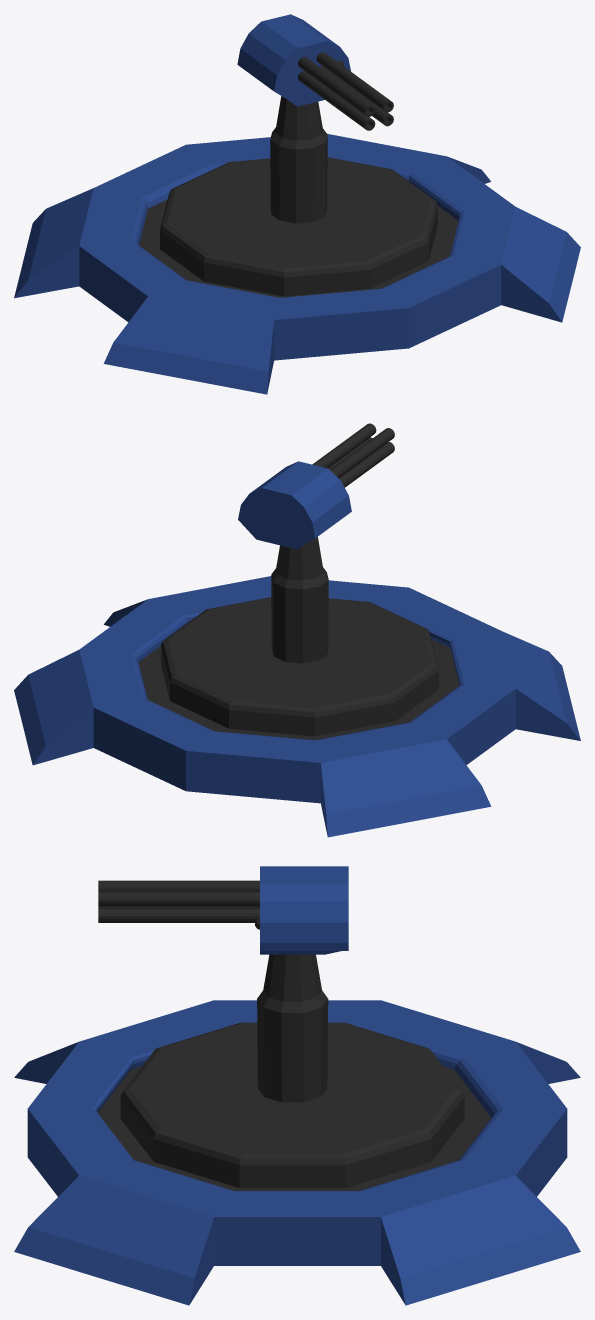
The model's file is FlakTurretUpgrade.fbx.
3 views of the same model, one above another, from view 1: azimuth 30°, elevation 25°; view 2: azimuth 150°, elevation 25°; view 3: azimuth 270°, elevation 25° (orthographic). The views are drawn at different scales.
Parts seen in each view (by area): view 1: FlackTurretUpgrade; view 2: FlackTurretUpgrade; view 3: FlackTurretUpgrade.
Part boxes in pixels (<box>): FlackTurretUpgrade: <box>14,14,580,394</box>; FlackTurretUpgrade: <box>14,423,580,837</box>; FlackTurretUpgrade: <box>14,866,580,1305</box>.
Bounding box in the file's own units: 61.77 × 29.61 × 52.55.
